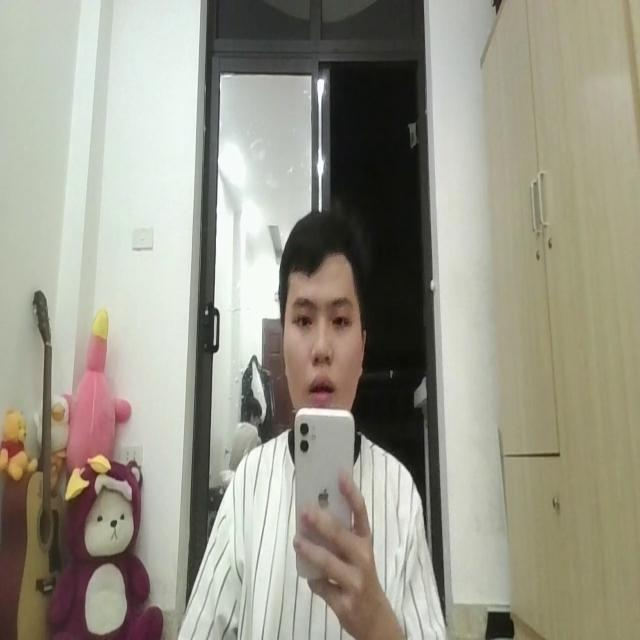phone: (294, 402, 355, 586)
student: (170, 212, 444, 640)
